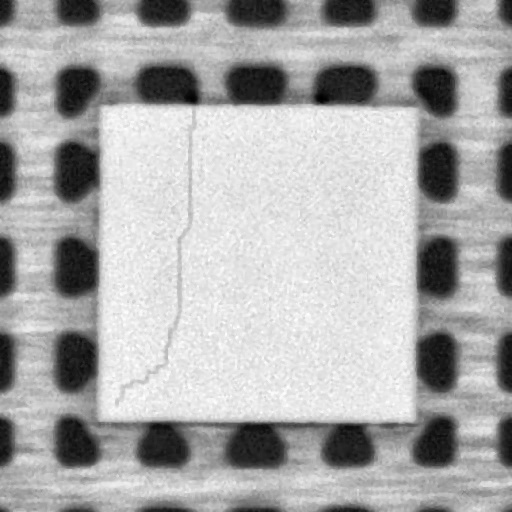DIE_CRACK: (112, 108, 196, 407)
